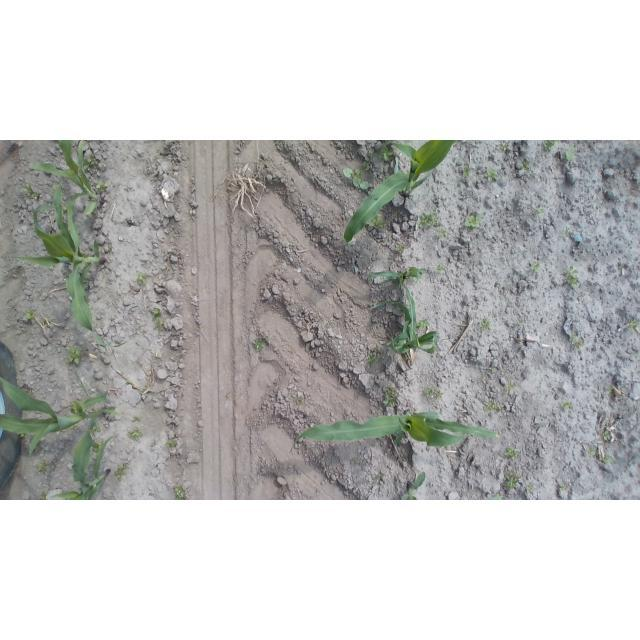Maize: (15, 184, 106, 330), (345, 141, 456, 246), (1, 374, 112, 459), (289, 412, 499, 455), (50, 408, 128, 500), (28, 141, 104, 216), (368, 279, 439, 356), (400, 472, 510, 501), (368, 267, 427, 290)
Weeds: (344, 161, 369, 192), (562, 266, 580, 287), (367, 347, 385, 366), (419, 212, 440, 228), (152, 308, 165, 333), (67, 347, 85, 365), (383, 388, 400, 407), (366, 214, 388, 228), (378, 145, 395, 162), (504, 471, 520, 489), (464, 216, 484, 229), (252, 336, 268, 352), (484, 400, 503, 413), (127, 427, 144, 441), (114, 464, 128, 481), (425, 386, 444, 398), (173, 484, 187, 500), (504, 447, 521, 460), (83, 158, 99, 171), (542, 141, 560, 152), (485, 167, 497, 181), (136, 271, 148, 285), (35, 460, 47, 474), (505, 380, 516, 395), (93, 438, 104, 453), (480, 318, 492, 331), (417, 320, 430, 332), (25, 308, 37, 321), (584, 446, 597, 457), (566, 147, 576, 161), (24, 180, 32, 197), (165, 440, 180, 449), (90, 424, 101, 436), (561, 399, 574, 409), (68, 400, 78, 413), (96, 180, 107, 191), (627, 320, 637, 332), (436, 264, 445, 277), (462, 167, 471, 180), (602, 455, 616, 463), (601, 429, 611, 440), (532, 207, 544, 216), (437, 227, 447, 237), (293, 396, 304, 405), (532, 263, 541, 273), (576, 340, 584, 349), (131, 415, 141, 422), (396, 244, 404, 252), (500, 142, 507, 151), (368, 148, 375, 157), (488, 365, 496, 372), (40, 492, 47, 500), (33, 192, 39, 201), (62, 204, 68, 213), (523, 162, 529, 171), (355, 140, 365, 145), (352, 460, 361, 465), (374, 476, 379, 485), (570, 333, 576, 340), (527, 486, 533, 493), (559, 485, 565, 492), (607, 387, 613, 393), (18, 432, 25, 437), (500, 496, 508, 500), (564, 230, 569, 236), (516, 320, 522, 325), (632, 350, 637, 356), (50, 188, 55, 194), (40, 317, 44, 324), (108, 245, 113, 249)
